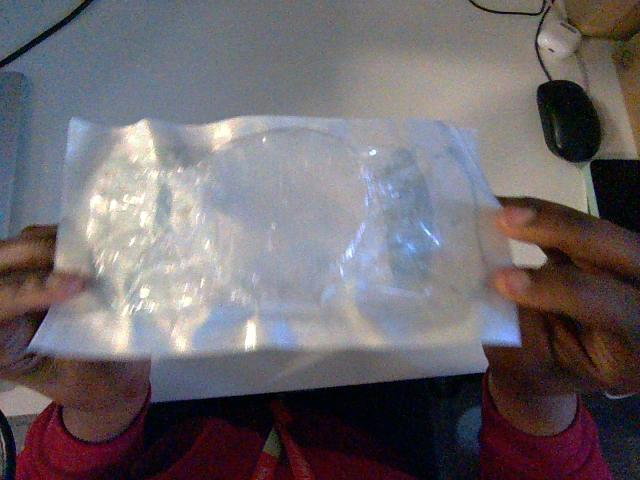gallipot: (31, 117, 518, 356)
